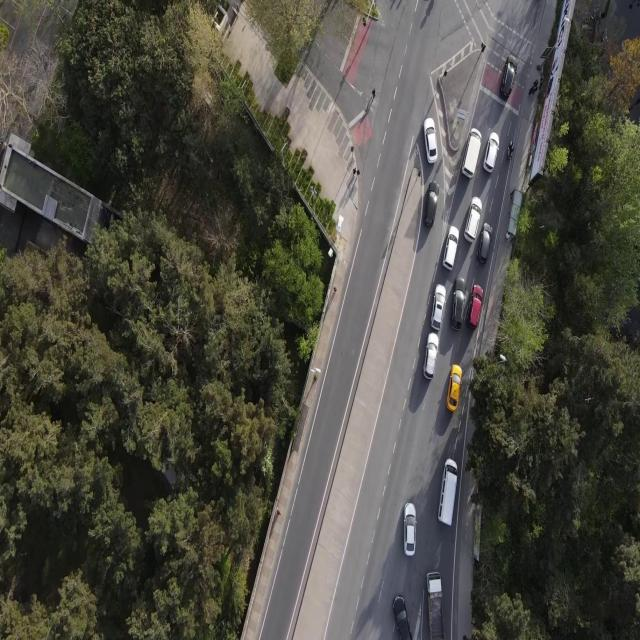p3rson: (528, 84, 534, 96), (356, 169, 361, 181), (352, 167, 357, 177), (372, 88, 376, 99), (533, 86, 538, 94), (505, 232, 510, 240), (277, 508, 281, 516), (351, 145, 354, 153), (534, 80, 538, 86), (334, 286, 336, 292)
